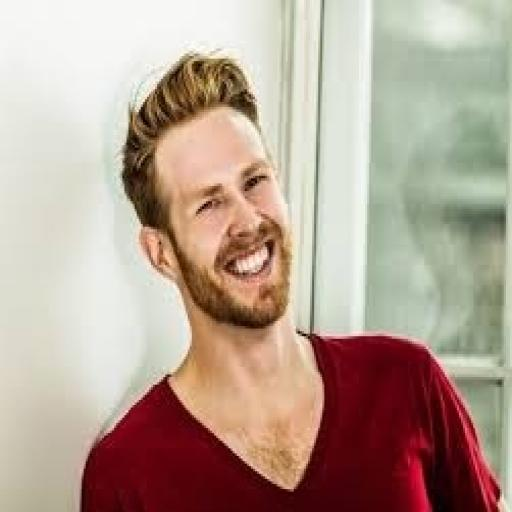laughing: (67, 44, 510, 510)
